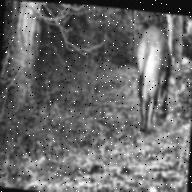boar: (134, 23, 177, 135)
